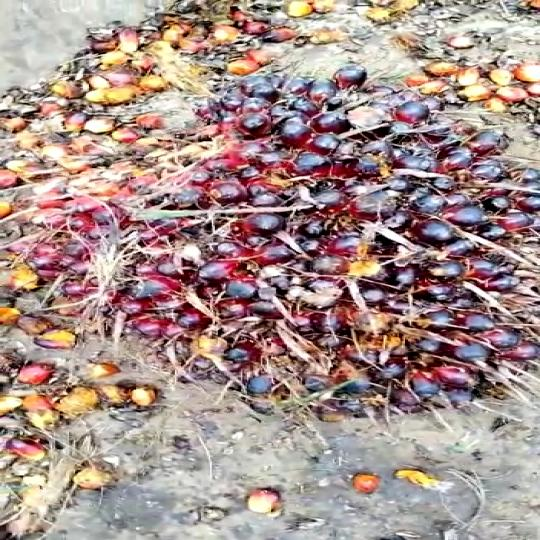kurang masak: (130, 73, 540, 430)
